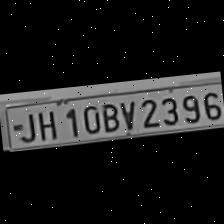0: (78, 102, 101, 137)
1: (59, 105, 81, 140)
2: (136, 95, 160, 129)
3: (156, 92, 180, 128)
6: (199, 88, 223, 122)
9: (178, 90, 202, 126)
B: (98, 100, 120, 134)
H: (33, 106, 61, 142)
J: (10, 110, 36, 145)
V: (116, 98, 137, 133)
